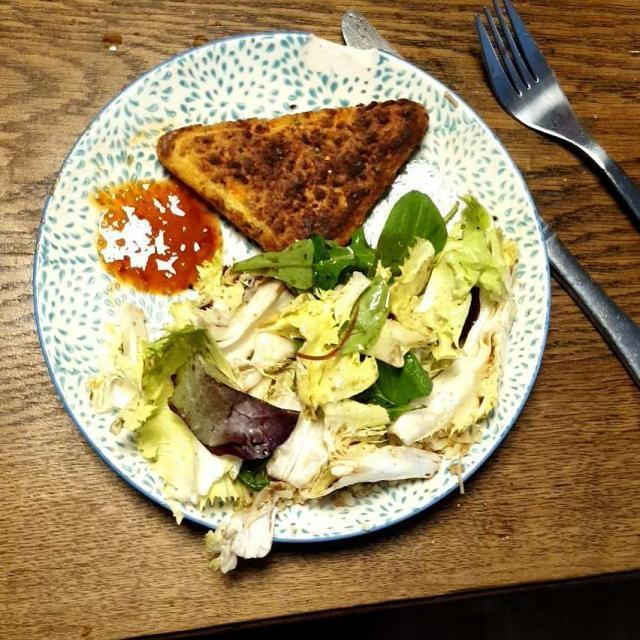breadcrumbs: (160, 100, 424, 243)
salad: (106, 195, 509, 567)
sauce: (99, 179, 219, 287)
tofu: (163, 99, 426, 249)
